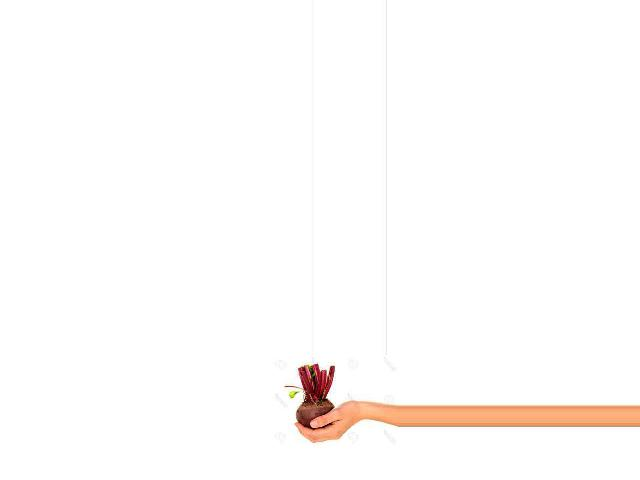beet: (283, 364, 334, 429)
